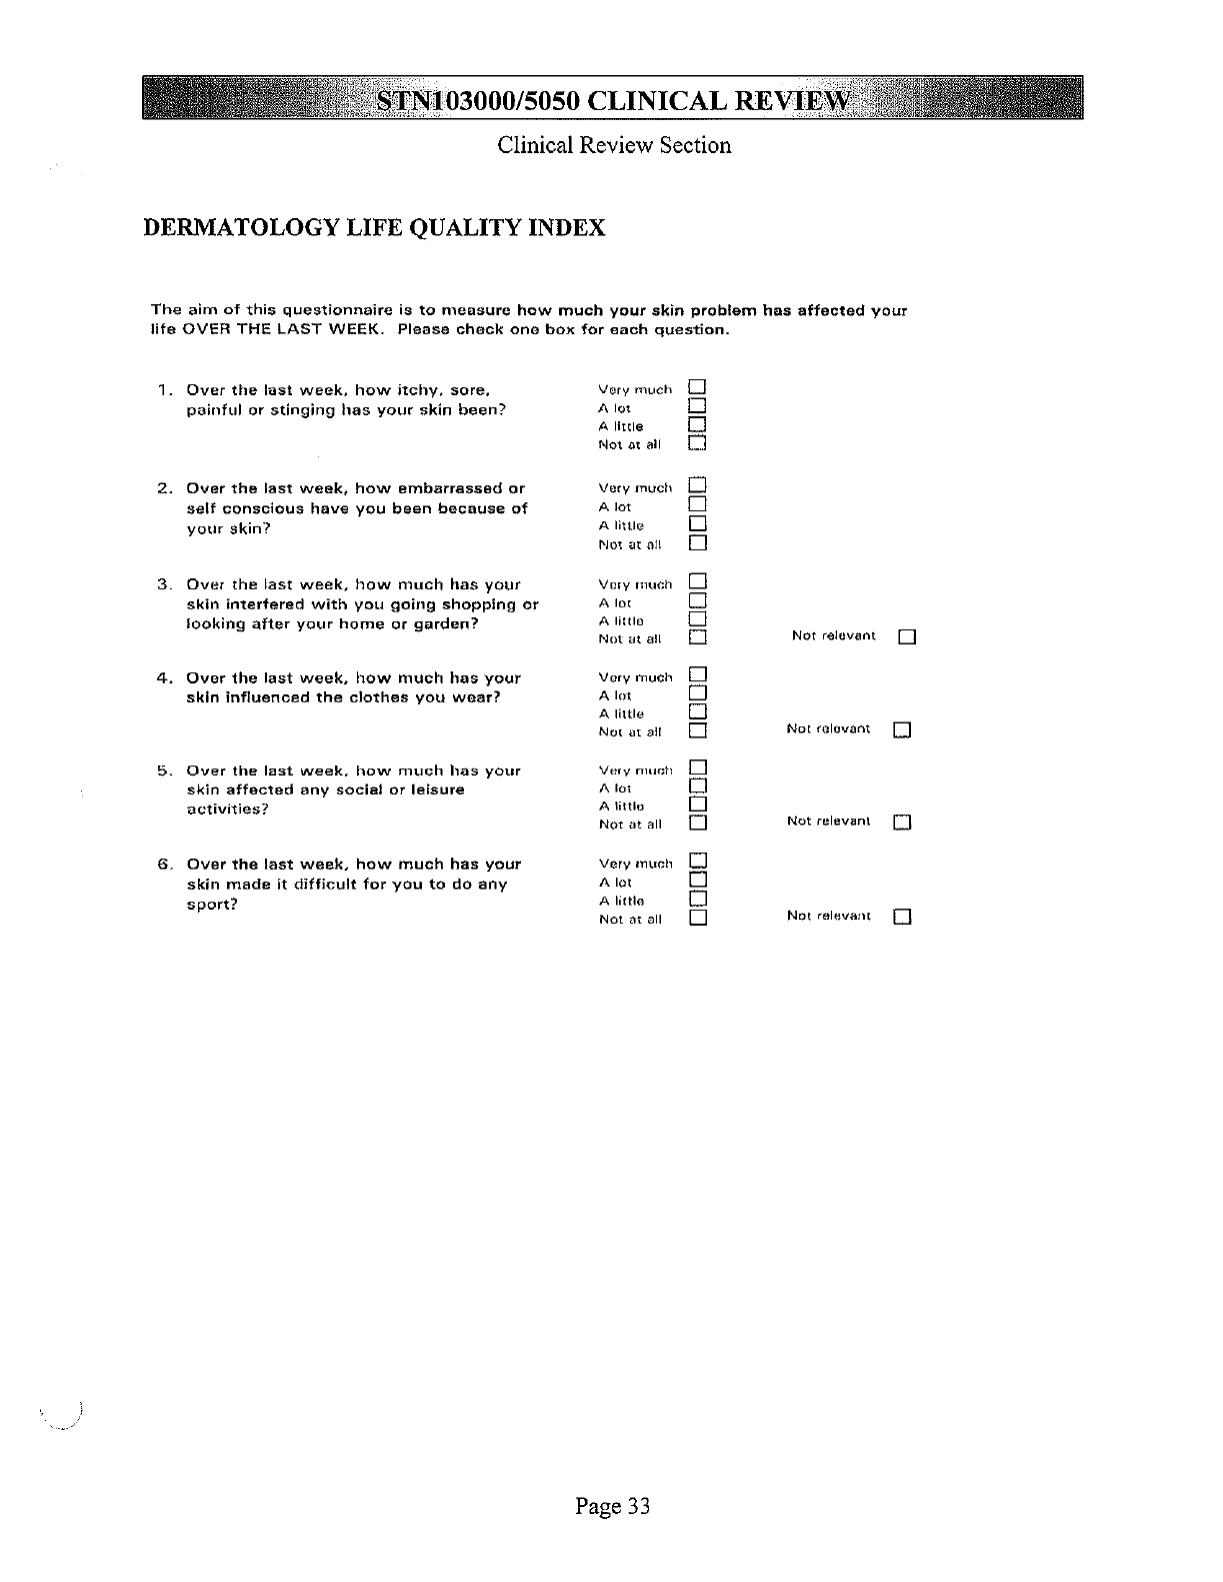nolines: (152, 378, 919, 930)
